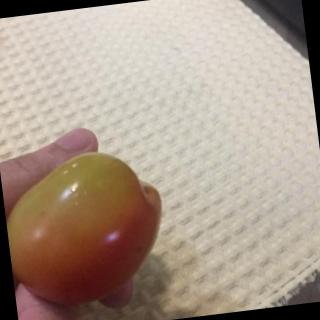Tomat: (2, 142, 178, 313)
